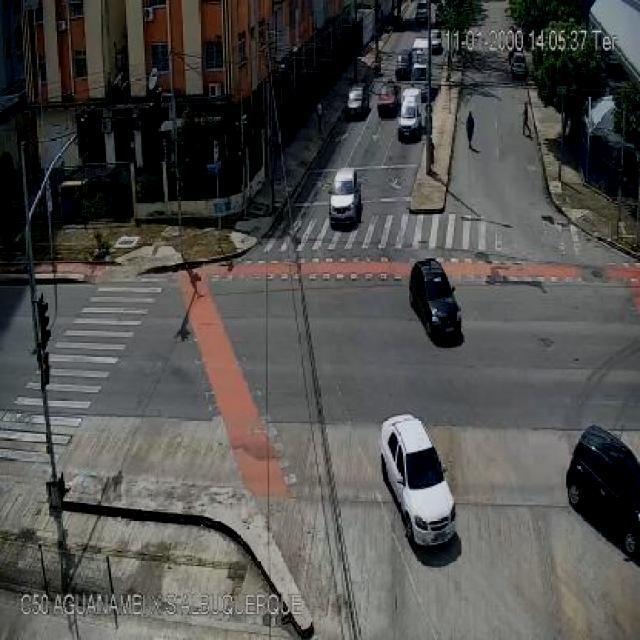Bus: (411, 31, 429, 87)
Car: (566, 427, 640, 564), (381, 414, 456, 545), (407, 252, 478, 358), (329, 168, 361, 226), (376, 82, 400, 116), (346, 84, 368, 120), (396, 50, 414, 80), (510, 52, 528, 80), (429, 29, 443, 53), (416, 1, 428, 24)
Truck: (398, 89, 423, 139)
